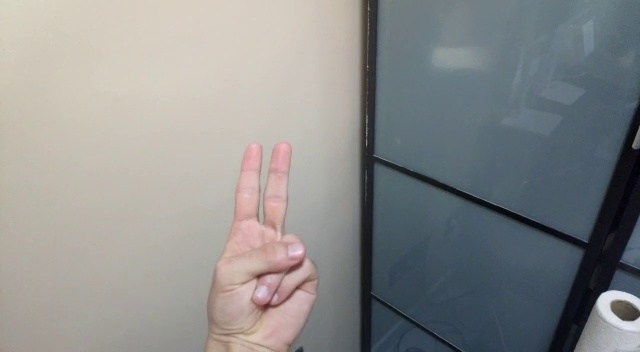Peace: (211, 130, 326, 348)
